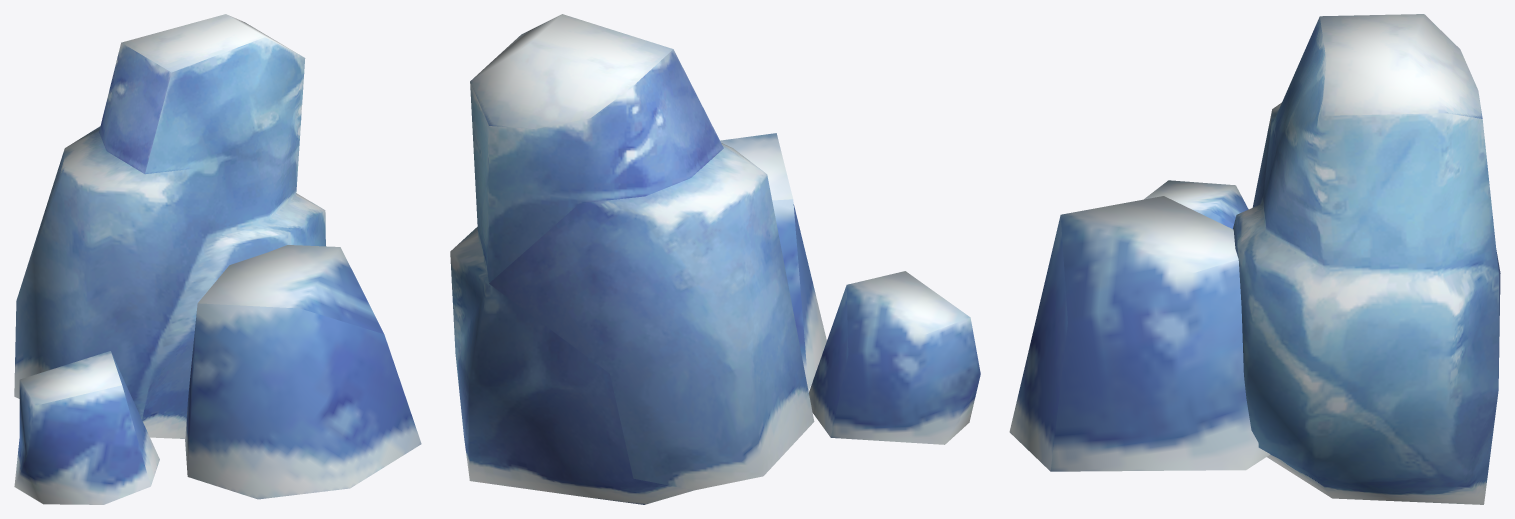
Rendered from SM_stoneB_07.fbx.
3 views of the same model, side by side, from view 1: azimuth 30°, elevation 25°; view 2: azimuth 150°, elevation 25°; view 3: azimuth 270°, elevation 25° (orthographic). The views are drawn at different scales.
Parts seen in each view (by area): view 1: SM_stoneB_07; view 2: SM_stoneB_07; view 3: SM_stoneB_07.
Part boxes in pixels (x1,y1,x2,y2): SM_stoneB_07: [14, 14, 421, 504]; SM_stoneB_07: [450, 14, 980, 504]; SM_stoneB_07: [1009, 14, 1500, 504].
Bounding box in the file's own units: 1.73 × 1.7 × 1.73.
